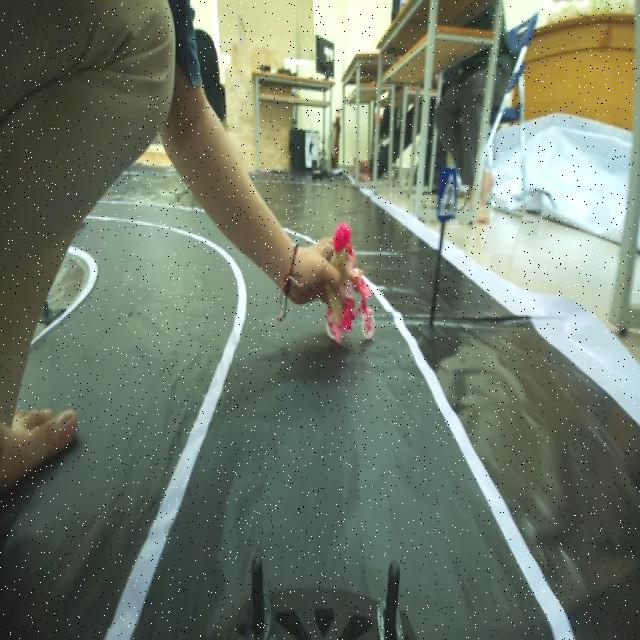crosswalk: (432, 158, 467, 240)
pedestrian: (318, 220, 382, 341)
